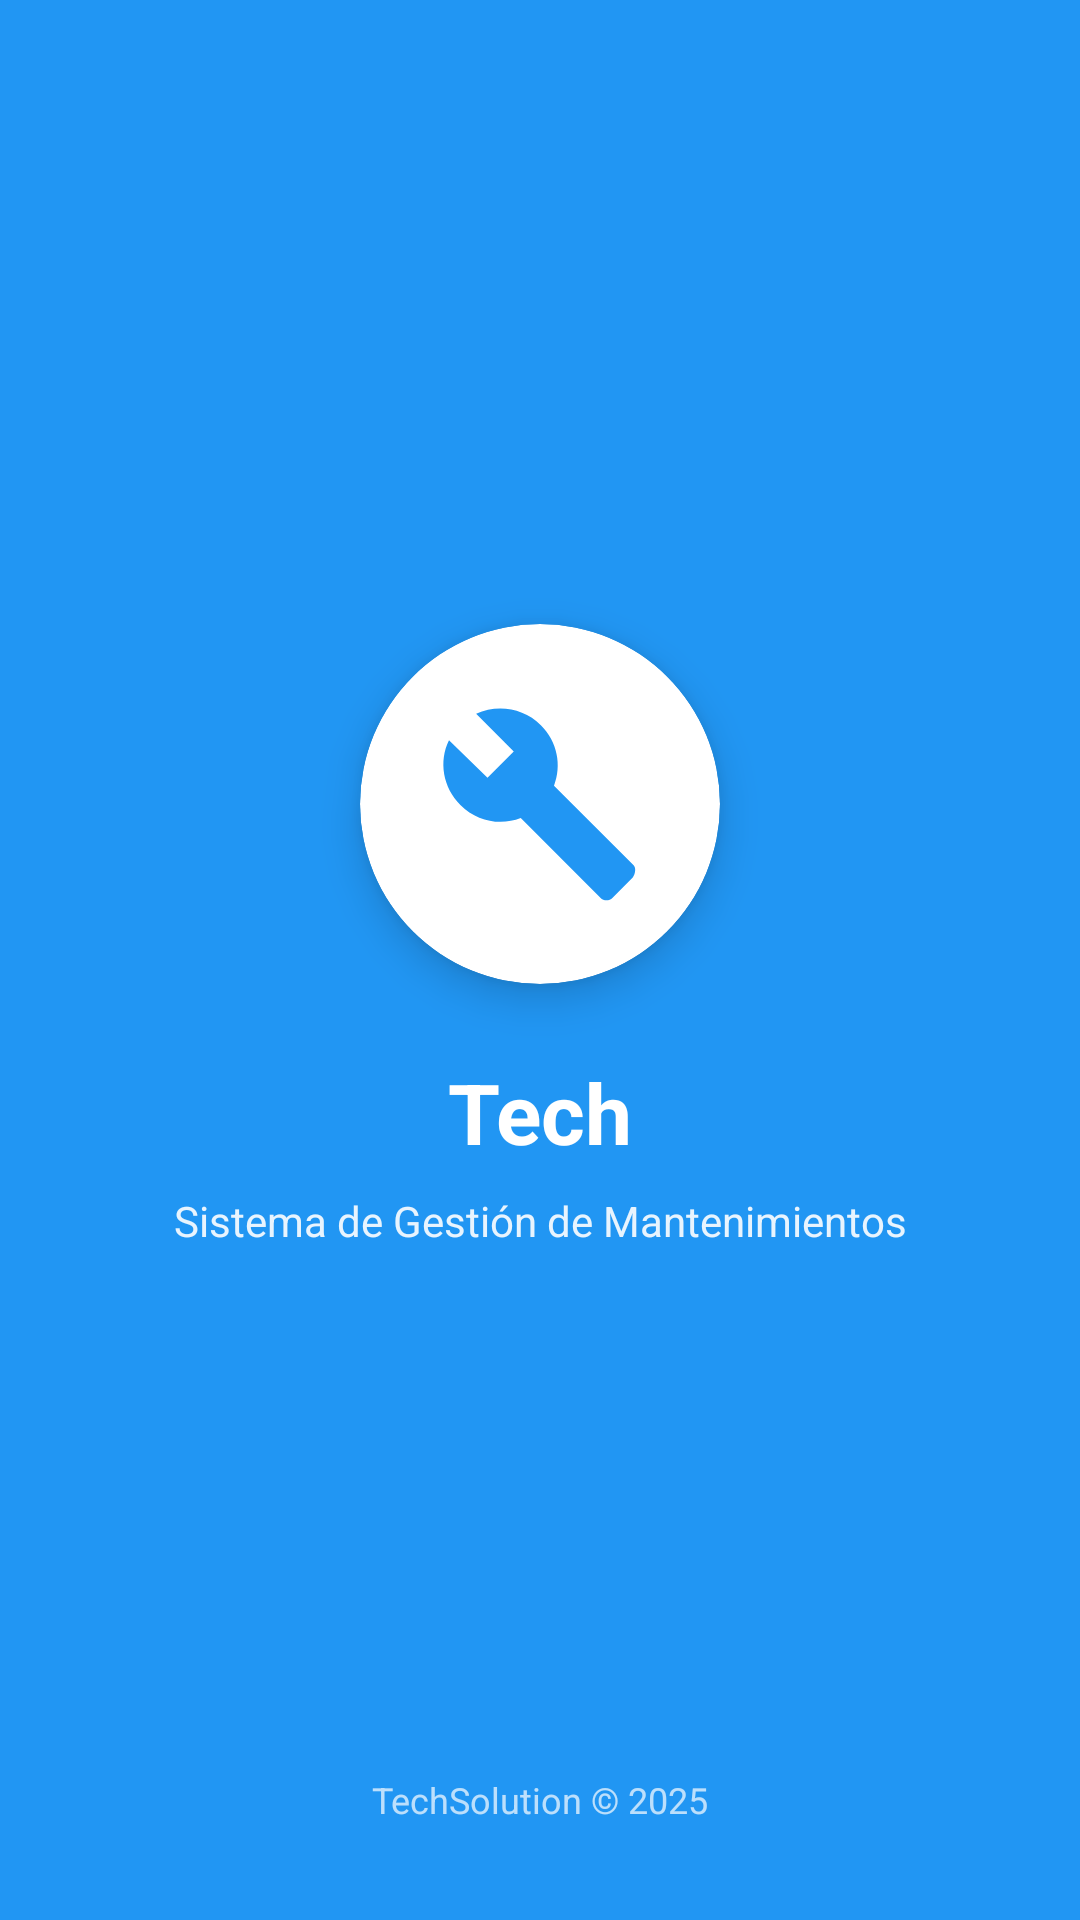

Icon click points for this 1080px x 1920px phone screenshot, format (x,y):
wrench: (539,804)
